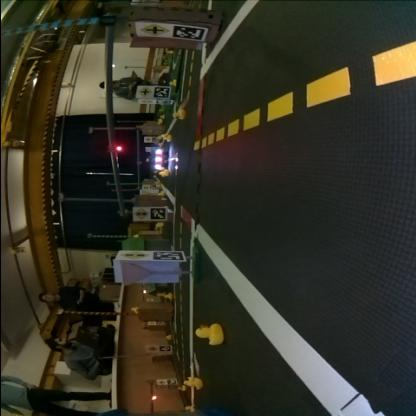Duckie: (193, 324, 220, 346), (190, 379, 202, 390)
Intersection sign: (136, 25, 169, 37), (136, 87, 150, 98)
QR code: (172, 27, 202, 41), (148, 208, 164, 220), (151, 254, 181, 260), (152, 88, 168, 98)
Signal sign: (119, 252, 148, 260), (132, 209, 147, 220)
Traffic light: (112, 146, 122, 152)
